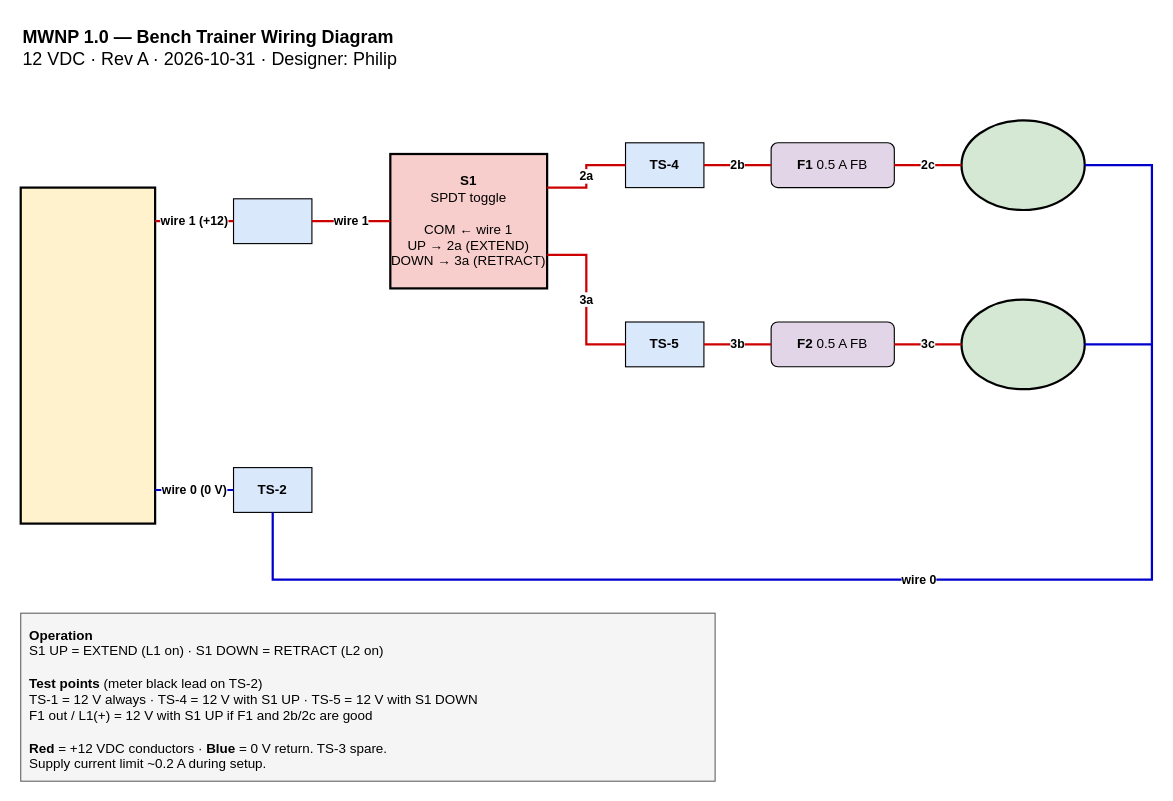
The diagram is 1173 pixels wide and 801 high, and some of its shapes have lost their labels. The centre of each missing label's shape, as x and y in pixels:
"L1 EXTEND 12 V LED lamp" goes at [1022,165].
"L2 RETRACT 12 V LED lamp" goes at [1022,344].
"PS1 Adj. DC supply set 12.0 VDC (+) top / (−) bottom" goes at [87,355].
"TS-1" goes at [272,221].
